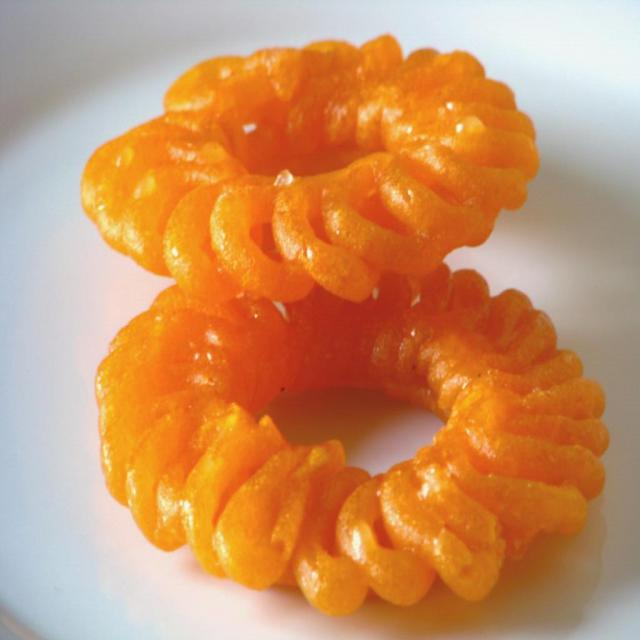jalebi: (79, 46, 606, 601)
